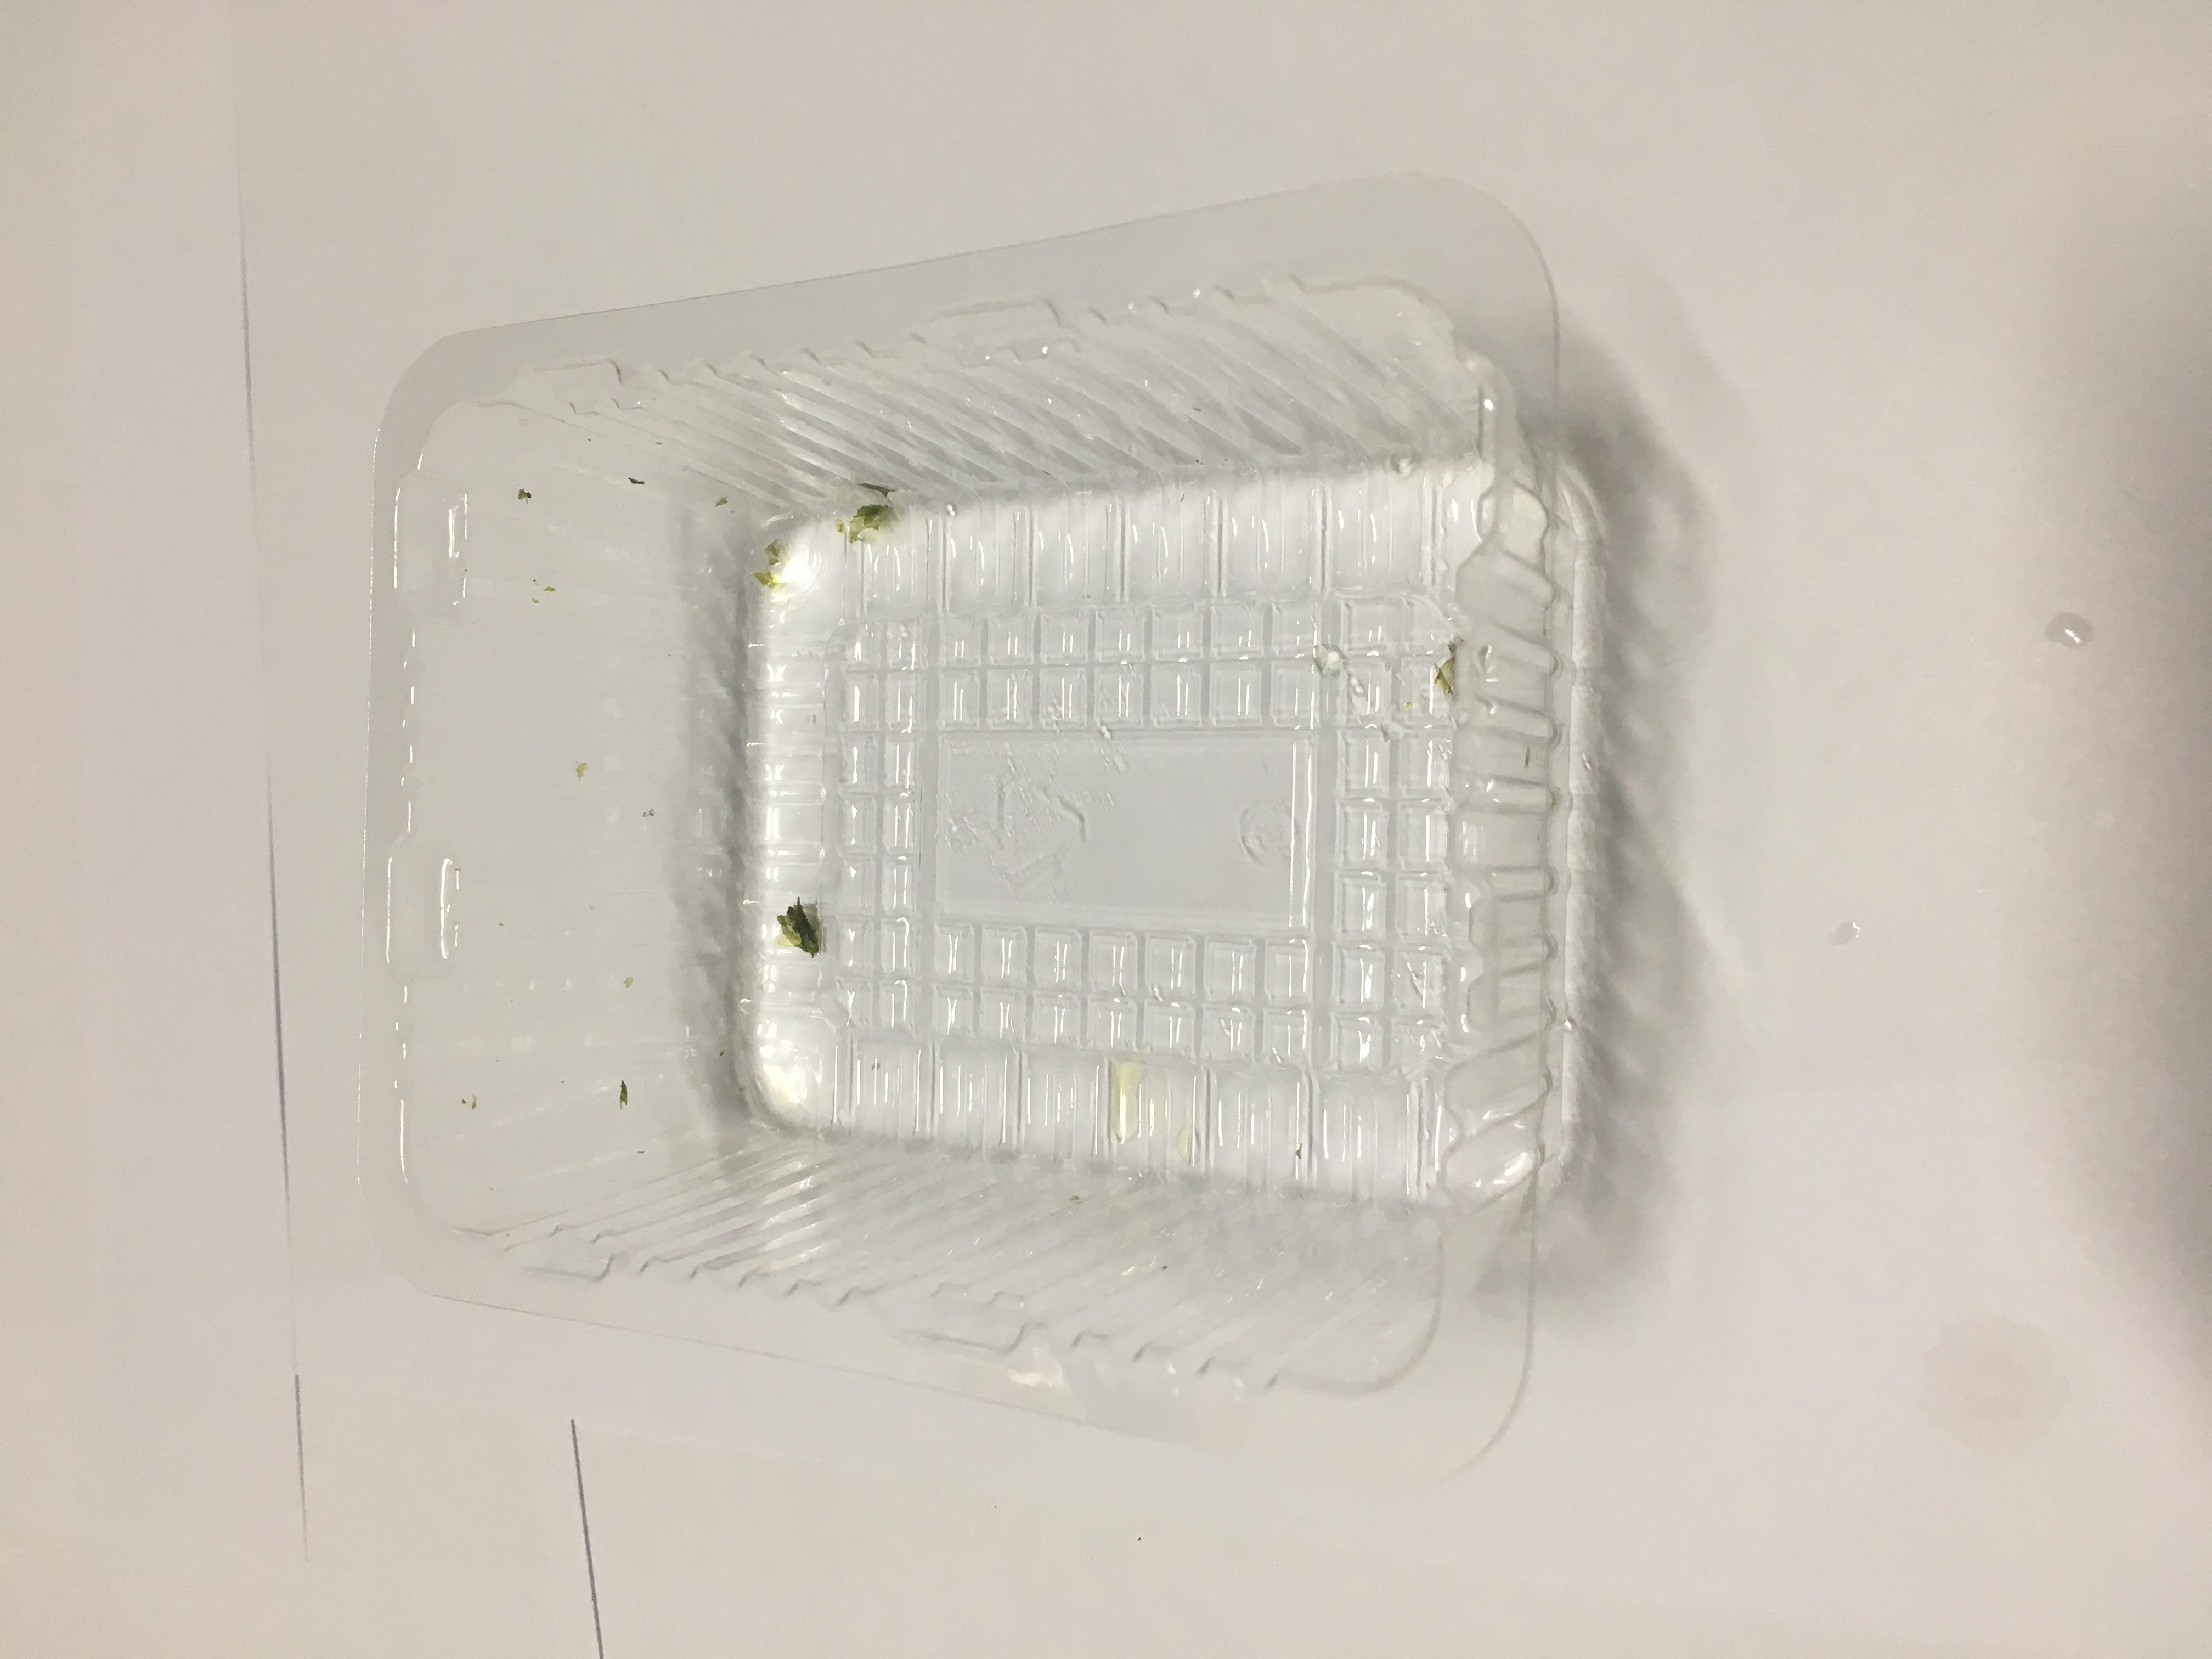bottle: (287, 221, 1966, 1330)
